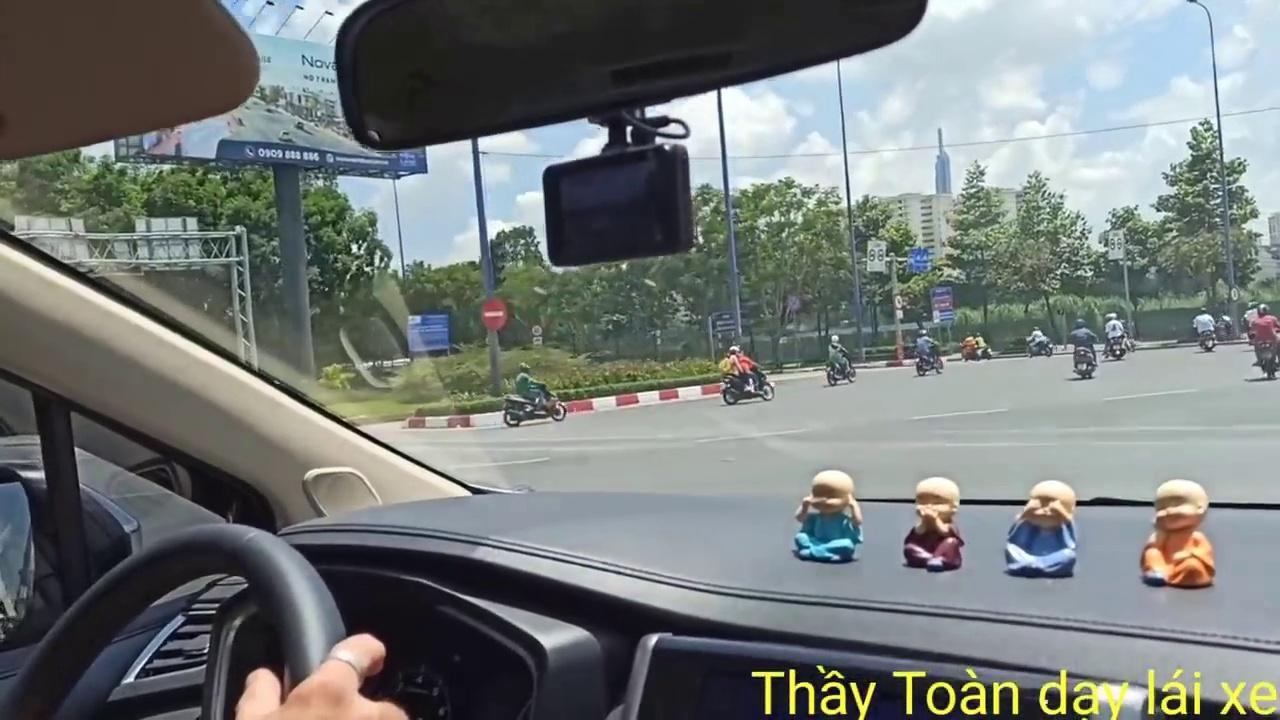Cấm cac phương tiện hoạt động trong khung giờ cố định: (866, 240, 886, 274)
Cấm đi ngược chiều: (478, 294, 511, 330)
Khác: (407, 312, 449, 350), (930, 283, 957, 326)
Làn đường cho từng xe: (906, 246, 929, 273)
